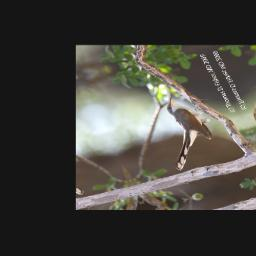Cuckoo: (137, 87, 239, 173)
